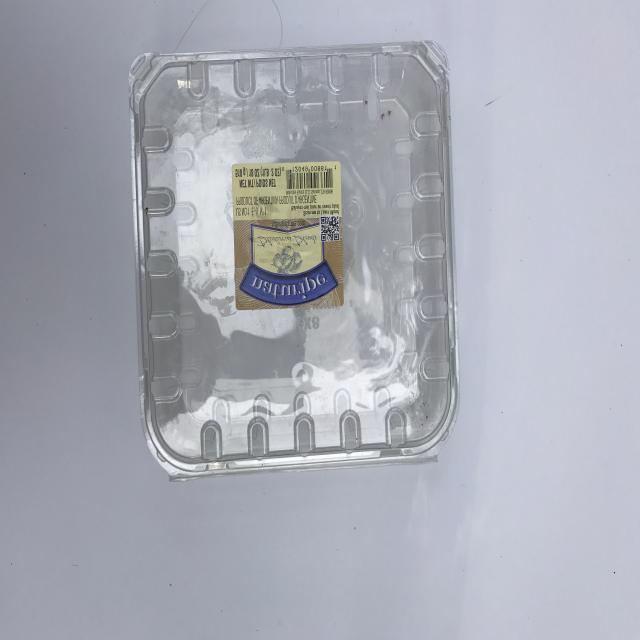plastic: (130, 39, 460, 480)
